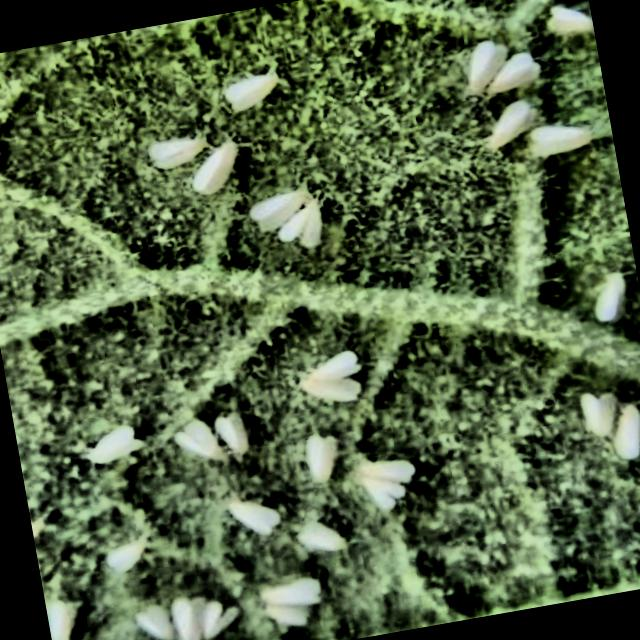whitefly: (301, 349, 360, 399), (359, 459, 414, 507), (250, 188, 309, 229), (192, 141, 237, 192), (488, 99, 535, 147), (487, 51, 539, 92), (224, 70, 277, 108), (468, 39, 506, 92), (278, 199, 321, 245), (87, 425, 141, 461), (175, 418, 222, 457), (530, 125, 590, 155), (227, 498, 279, 532), (149, 135, 206, 166), (261, 577, 319, 603), (595, 271, 625, 320), (581, 392, 616, 434), (306, 433, 337, 478), (547, 3, 593, 33), (297, 520, 344, 549), (214, 411, 248, 451), (615, 403, 640, 456), (107, 535, 145, 569), (46, 599, 77, 640), (203, 601, 236, 637), (137, 606, 173, 638), (173, 598, 198, 640), (265, 603, 306, 624)
